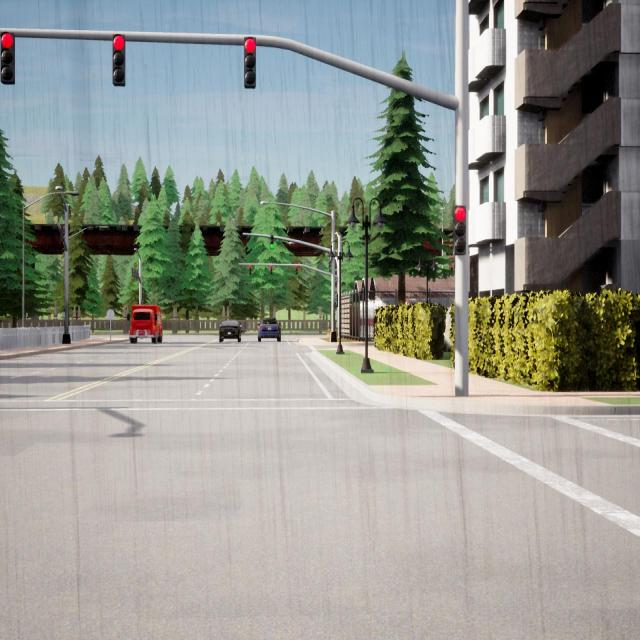Traffic_Signs: (107, 310, 114, 318)
Vehicle: (129, 304, 163, 343), (258, 318, 281, 342), (219, 320, 241, 342)
traffic_light: (1, 32, 15, 84), (112, 34, 125, 85), (244, 36, 256, 88), (454, 206, 466, 255), (61, 225, 65, 241), (270, 235, 274, 249), (249, 264, 252, 274), (270, 265, 272, 275), (296, 265, 298, 275), (136, 270, 138, 279), (134, 269, 136, 277), (132, 268, 133, 277)
